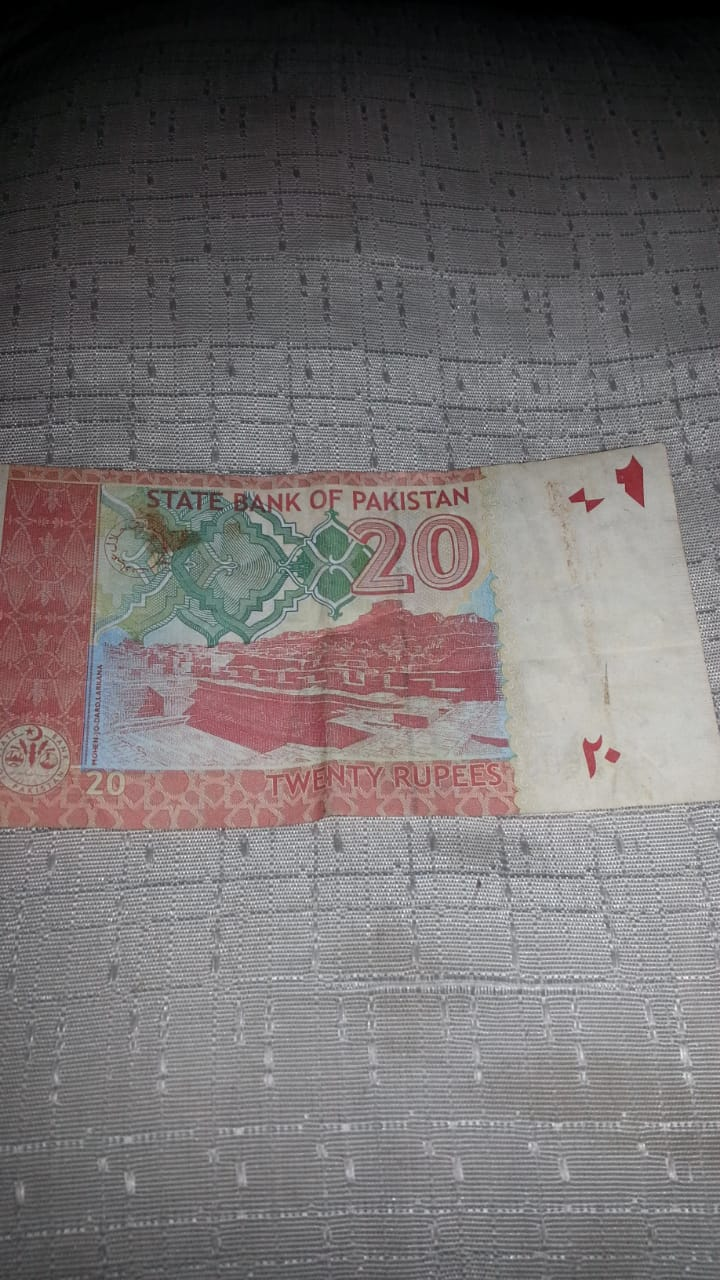20 rupee: (17, 438, 695, 866)
